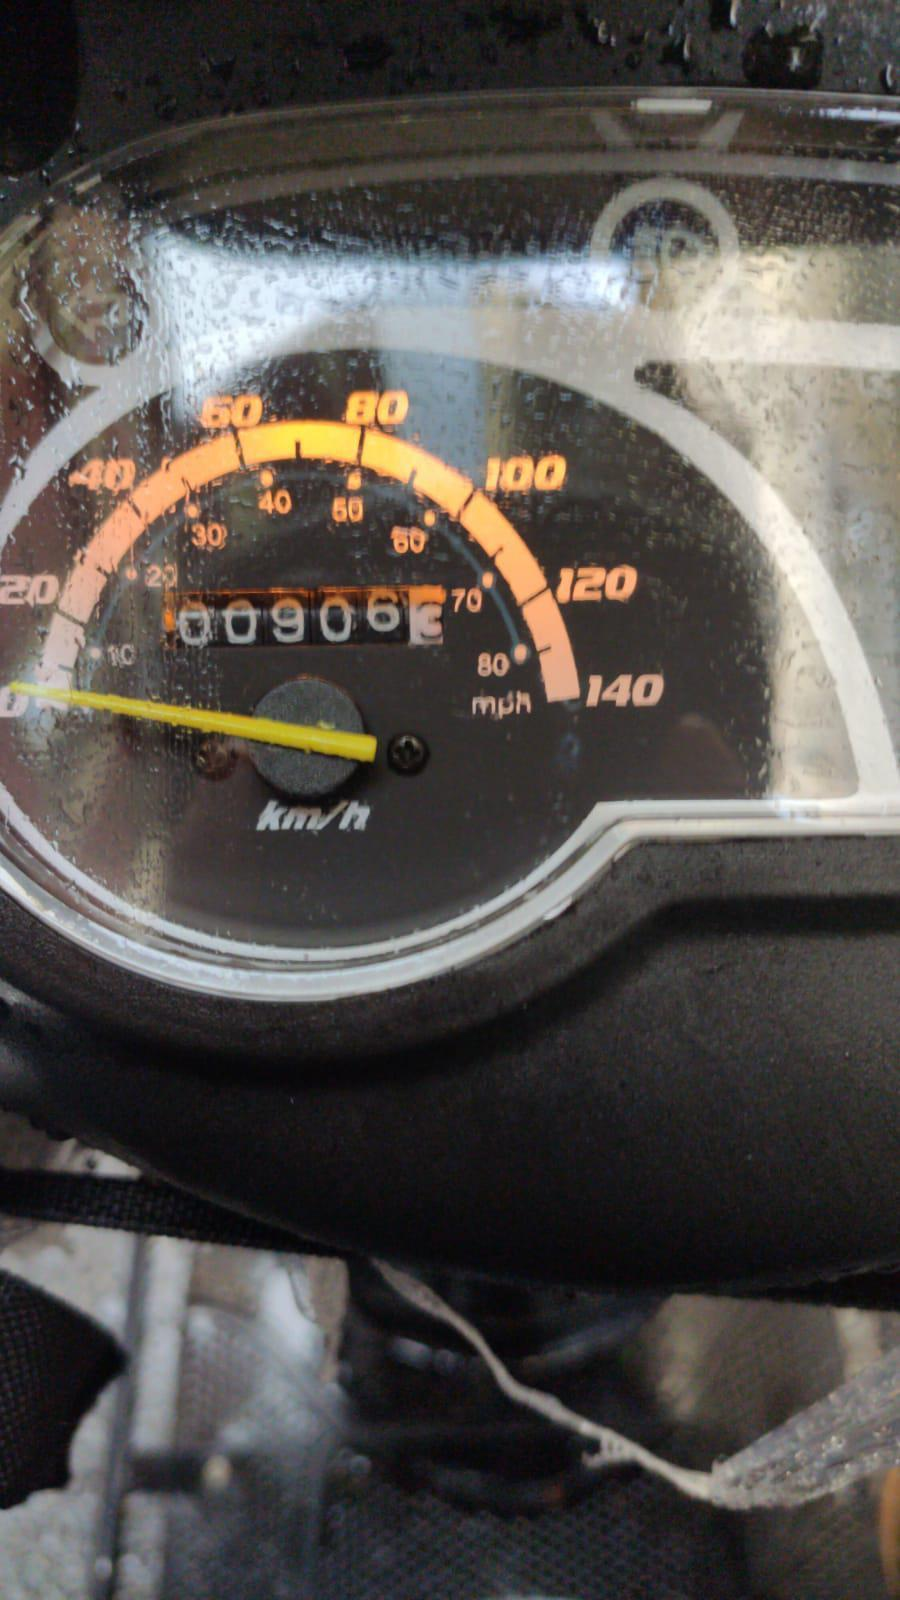0: (318, 595, 353, 644), (224, 597, 257, 645), (177, 600, 211, 646)
3: (414, 599, 445, 640)
6: (367, 589, 401, 633)
9: (270, 597, 305, 644)
odometer: (162, 584, 447, 651)
